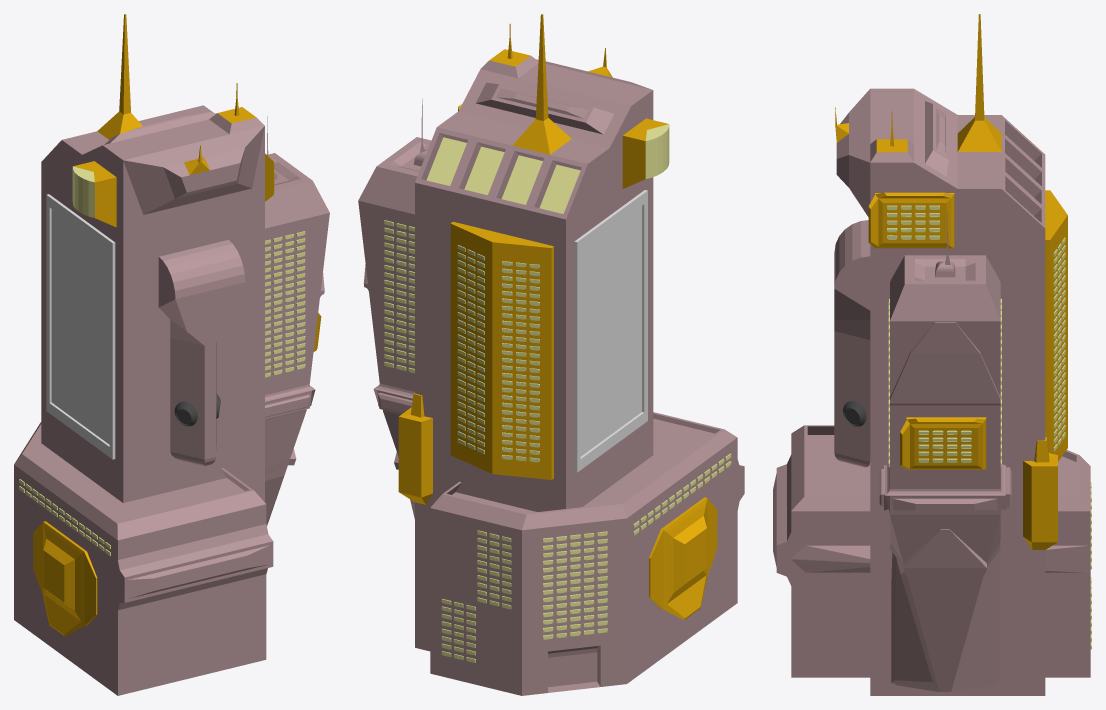
File: Batiment3.fbx
The picture shows the model from 3 angles, left to right: view 1: azimuth 30°, elevation 25°; view 2: azimuth 150°, elevation 25°; view 3: azimuth 270°, elevation 25°; orthographic projection. The views are drawn at different scales.
Visible parts, largest first — view 1: Cube.009, Cube.014, Cube.010, Cube.015, Cube.016, Light.042, Light.045; view 2: Cube.009, Cube.014, Cube.011, Cube.010, Cube.015, Cube.016, Light.040, Light.044, Light.039, Cube.013, Light.041, Light.046 (+2 smaller); view 3: Cube.009, Cube.015, Cube.014, Cube.011, Cube.012, Cube.017, Cube.013, Light.039, Light.043, Light.047.
Boxes of the visible parts, x1,y1,x2,y2 form: Cube.009: [41, 14, 264, 502]; Cube.014: [14, 422, 273, 695]; Cube.010: [46, 194, 115, 459]; Cube.015: [265, 116, 329, 525]; Cube.016: [33, 521, 97, 636]; Light.042: [265, 231, 305, 377]; Light.045: [19, 479, 110, 555]; Cube.009: [415, 14, 669, 651]; Cube.014: [430, 412, 744, 695]; Cube.011: [450, 221, 553, 479]; Cube.010: [574, 190, 647, 472]; Cube.015: [358, 99, 431, 518]; Cube.016: [649, 497, 717, 619]; Light.040: [502, 261, 539, 462]; Light.044: [542, 531, 607, 639]; Light.039: [457, 245, 484, 454]; Cube.013: [398, 393, 432, 504]; Light.041: [384, 220, 414, 373]; Light.046: [477, 530, 511, 609]; Cube.009: [834, 14, 1045, 695]; Cube.015: [879, 210, 1011, 691]; Cube.014: [773, 425, 1090, 677]; Cube.011: [1045, 190, 1067, 461]; Cube.012: [868, 192, 954, 248]; Cube.017: [900, 417, 986, 469]; Cube.013: [1023, 437, 1057, 549]; Light.039: [1053, 237, 1065, 451]; Light.043: [887, 205, 939, 239]; Light.047: [918, 430, 971, 462].
Size of the model in its own units: 326 by 678 by 308.
